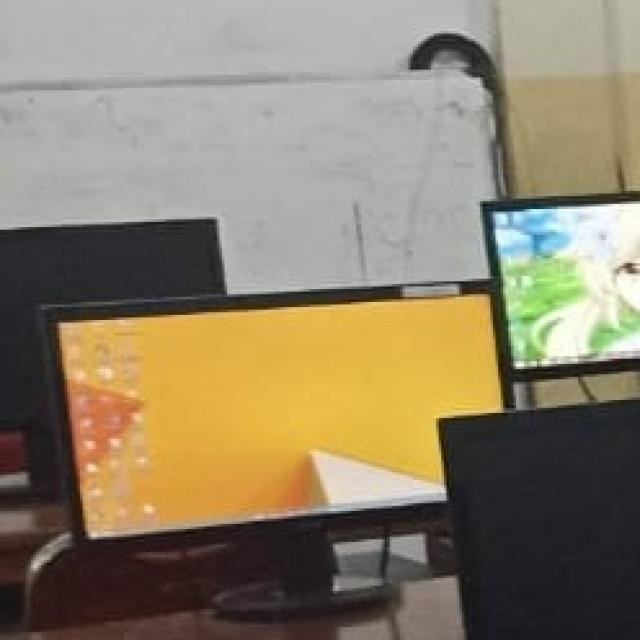offscreen: (441, 401, 640, 639), (0, 219, 223, 428)
onscreen: (48, 284, 502, 537), (485, 195, 640, 367)
